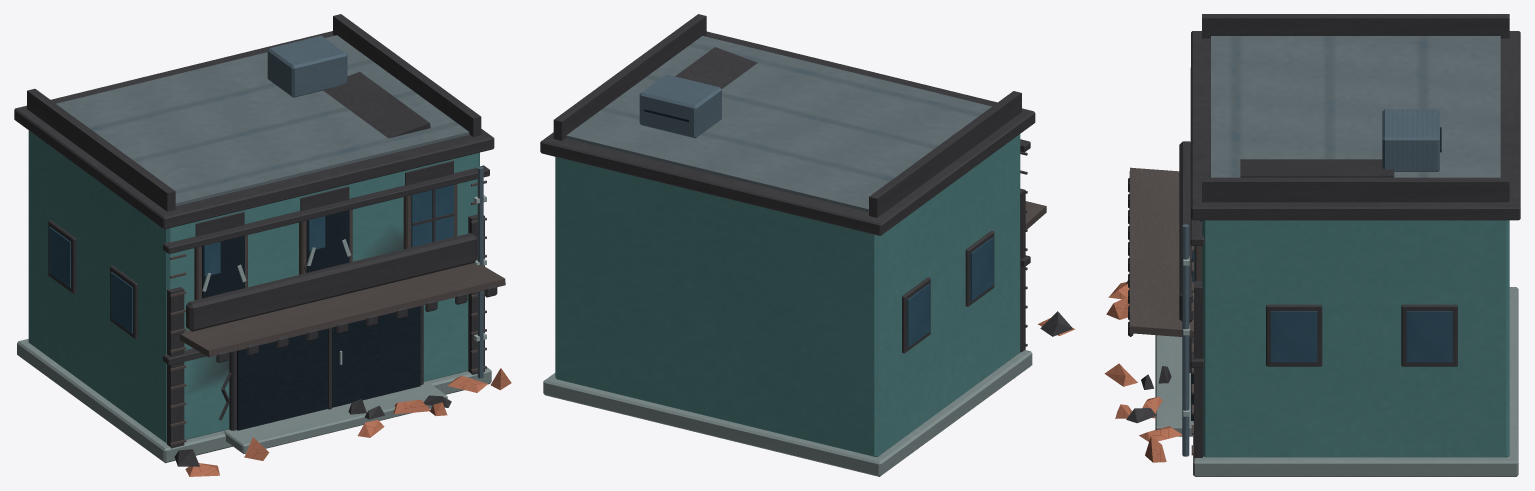
The model's file is corner-store-burning.glb.
3 views of the same model, side by side, from view 1: azimuth 30°, elevation 25°; view 2: azimuth 150°, elevation 25°; view 3: azimuth 270°, elevation 25° (orthographic). The views are drawn at different scales.
Visible parts, largest first — view 1: corner-store-burning; view 2: corner-store-burning; view 3: corner-store-burning.
Part boxes in pixels (bbox=[...]): corner-store-burning: bbox=[14, 14, 511, 476]; corner-store-burning: bbox=[540, 14, 1075, 476]; corner-store-burning: bbox=[1104, 14, 1520, 476].
Bounding box in the file's own units: 6.76 × 5.32 × 6.49.
4 materials, 4 textured.
